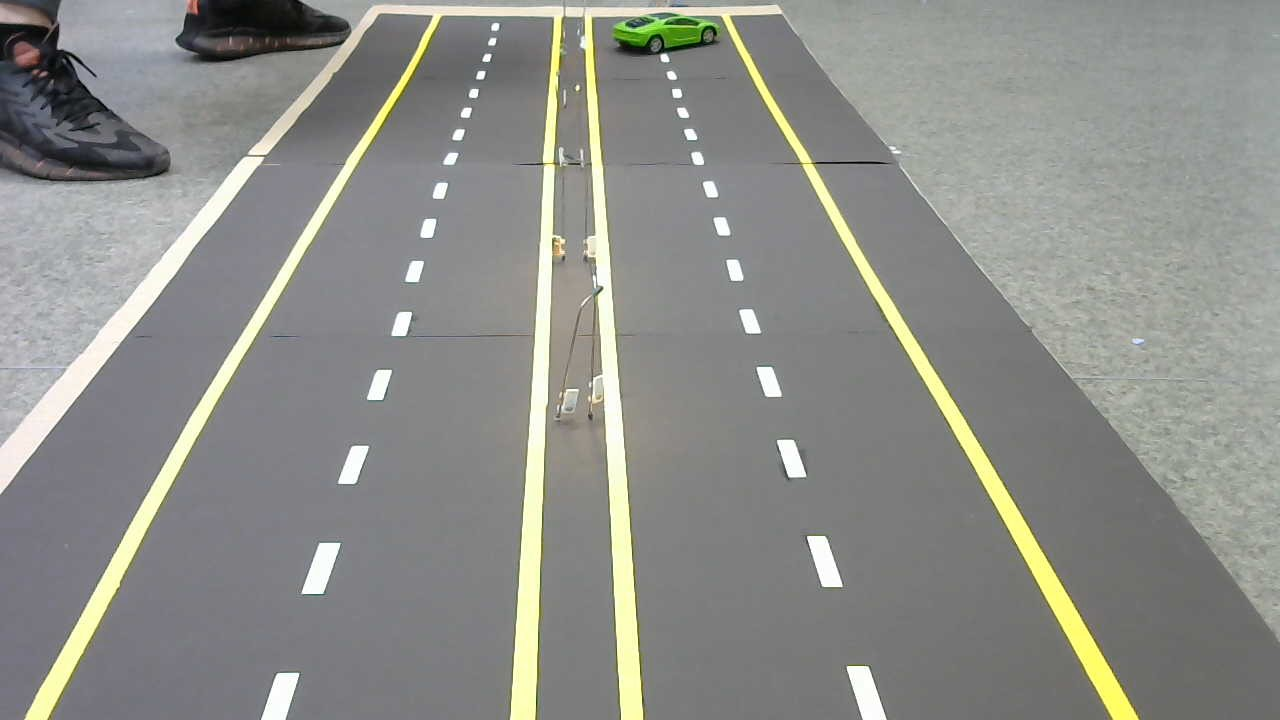overturn_car: (611, 12, 725, 59)
